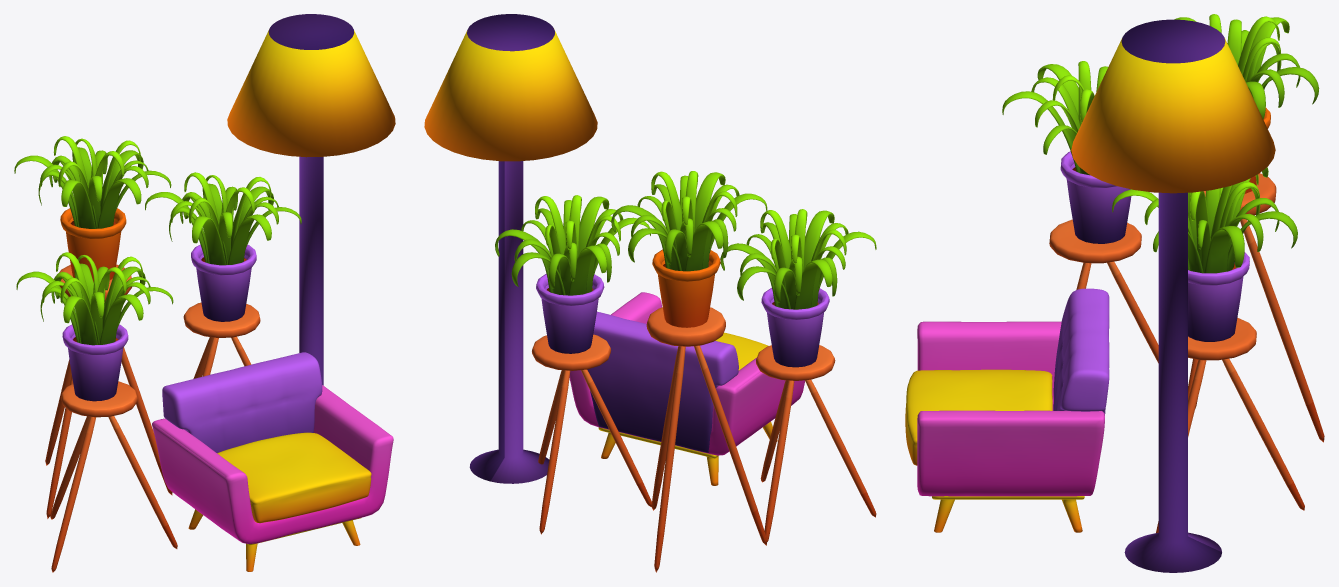
The model's file is Stuff.fbx.
The picture shows the model from 3 angles, left to right: view 1: azimuth 30°, elevation 25°; view 2: azimuth 150°, elevation 25°; view 3: azimuth 270°, elevation 25°; orthographic projection. The views are drawn at different scales.
Parts seen in each view (by area): view 1: Cube.002, Cylinder, planters.057, planters.049, planters.036; view 2: Cylinder, Cube.002, planters.036, planters.049, planters.057; view 3: Cylinder, Cube.002, planters.049, planters.057, planters.036.
Boxes of the visible parts, x1,y1,x2,y2 form: Cube.002: [152, 352, 393, 571]; Cylinder: [227, 14, 395, 385]; planters.057: [16, 252, 177, 572]; planters.049: [145, 172, 301, 378]; planters.036: [14, 136, 172, 518]; Cylinder: [424, 14, 597, 483]; Cube.002: [569, 292, 804, 485]; planters.036: [611, 171, 767, 572]; planters.049: [495, 195, 651, 534]; planters.057: [720, 209, 876, 541]; Cylinder: [1071, 19, 1275, 572]; Cube.002: [905, 288, 1109, 532]; planters.049: [1112, 167, 1304, 532]; planters.057: [1002, 61, 1158, 363]; planters.036: [1174, 14, 1324, 442].
Size of the model in its own units: 56.16 by 60.89 by 44.23.
